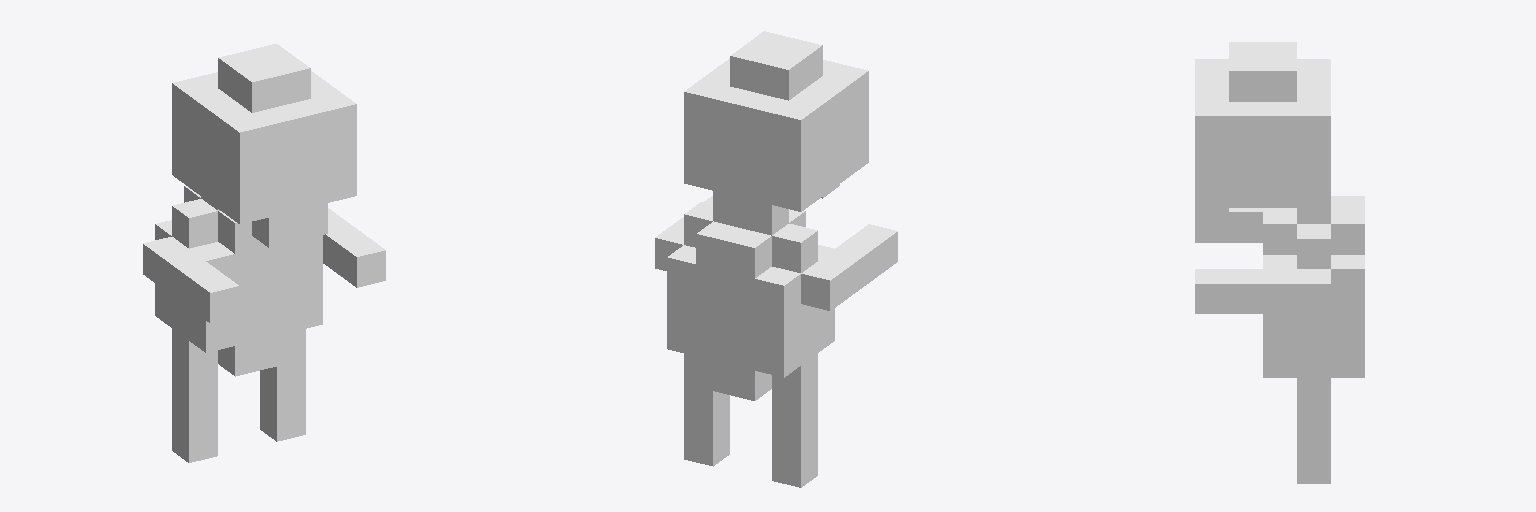
The model's file is Idle0.obj.
The picture shows the model from 3 angles: view 1: azimuth 30°, elevation 25°; view 2: azimuth 150°, elevation 25°; view 3: azimuth 270°, elevation 25°; orthographic projection.
Visible parts, largest first — view 1: object 1; view 2: object 1; view 3: object 1.
Boxes of the visible parts, x1,y1,x2,y2 form: object 1: [143, 44, 385, 462]; object 1: [655, 31, 897, 487]; object 1: [1195, 42, 1364, 483].
Size of the model in its own units: 0.6 by 1.3 by 0.5.